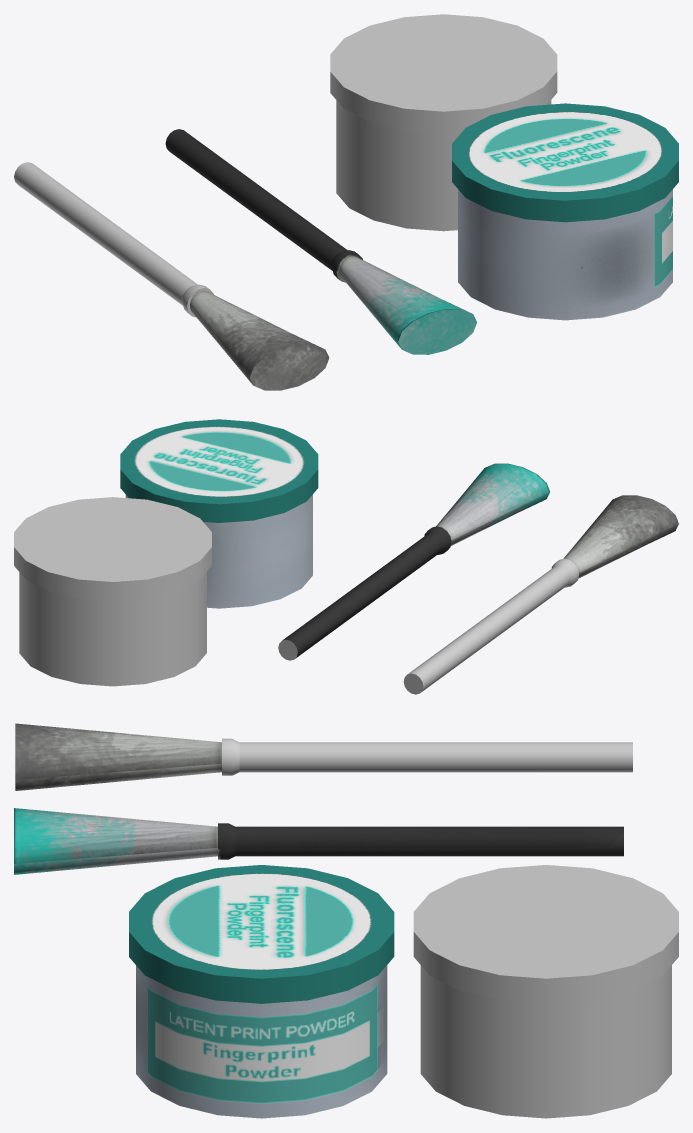
File: fingerprint_brush.fbx
The picture shows the model from 3 angles, top to bottom: view 1: azimuth 30°, elevation 25°; view 2: azimuth 150°, elevation 25°; view 3: azimuth 270°, elevation 25°; orthographic projection. The views are drawn at different scales.
Parts seen in each view (by area): view 1: fingerprint_kit_01.print dust 01.lid, fingerprint_kit_01.print dust 02.lid, fingerprint_kit_01.print dust 01, fingerprint_kit_01.brush 01, fingerprint_kit_01.brush 02, fingerprint_kit_01.print dust 02; view 2: fingerprint_kit_01.print dust 02.lid, fingerprint_kit_01.print dust 01.lid, fingerprint_kit_01.print dust 02, fingerprint_kit_01.brush 01, fingerprint_kit_01.brush 02, fingerprint_kit_01.print dust 01; view 3: fingerprint_kit_01.print dust 02.lid, fingerprint_kit_01.print dust 01.lid, fingerprint_kit_01.print dust 01, fingerprint_kit_01.print dust 02, fingerprint_kit_01.brush 01, fingerprint_kit_01.brush 02.
Part boxes in pixels (x1,y1,x2,y2): fingerprint_kit_01.print dust 01.lid: [452, 103, 678, 222]; fingerprint_kit_01.print dust 02.lid: [330, 14, 557, 133]; fingerprint_kit_01.print dust 01: [458, 189, 672, 320]; fingerprint_kit_01.brush 01: [14, 162, 329, 390]; fingerprint_kit_01.brush 02: [165, 129, 476, 354]; fingerprint_kit_01.print dust 02: [336, 100, 551, 231]; fingerprint_kit_01.print dust 02.lid: [14, 497, 211, 600]; fingerprint_kit_01.print dust 01.lid: [120, 419, 318, 522]; fingerprint_kit_01.print dust 02: [19, 572, 206, 686]; fingerprint_kit_01.brush 01: [403, 495, 678, 694]; fingerprint_kit_01.brush 02: [278, 463, 549, 660]; fingerprint_kit_01.print dust 01: [125, 494, 312, 608]; fingerprint_kit_01.print dust 02.lid: [413, 865, 678, 1003]; fingerprint_kit_01.print dust 01.lid: [129, 865, 394, 1003]; fingerprint_kit_01.print dust 01: [136, 965, 387, 1118]; fingerprint_kit_01.print dust 02: [420, 965, 671, 1118]; fingerprint_kit_01.brush 01: [15, 723, 632, 790]; fingerprint_kit_01.brush 02: [14, 808, 623, 874].
Bounding box in the file's own units: 61.73 × 13.83 × 58.35.
